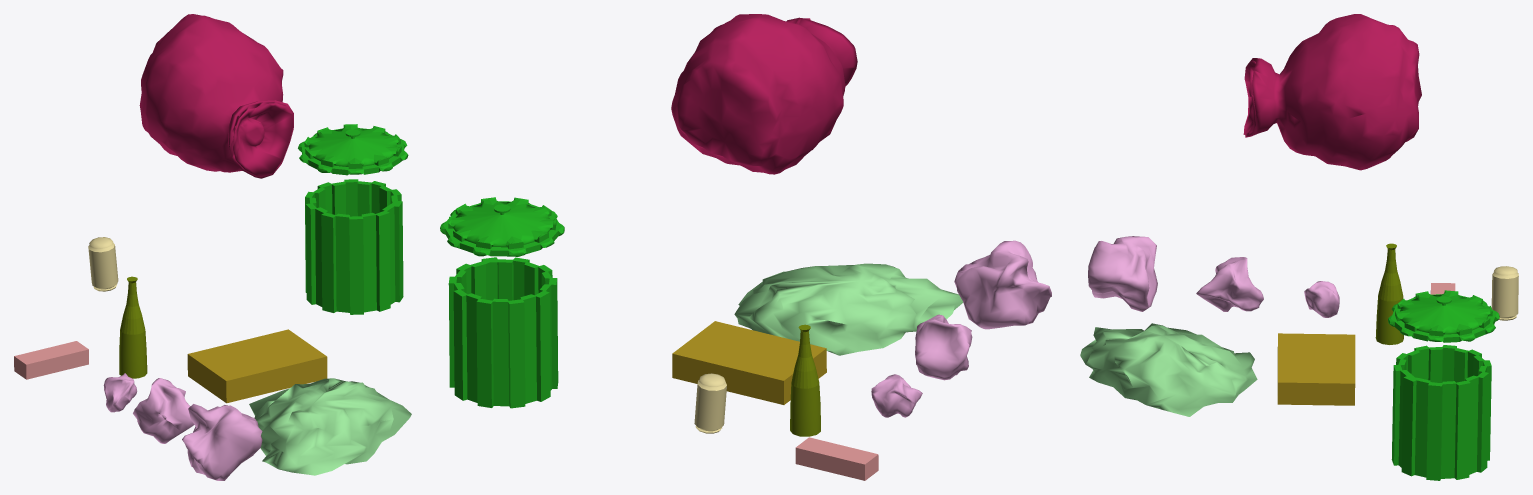
File: scattered_garbage.obj
The picture shows the model from 3 angles, left to right: view 1: azimuth 30°, elevation 25°; view 2: azimuth 150°, elevation 25°; view 3: azimuth 270°, elevation 25°; orthographic projection. The views are drawn at different scales.
Visible parts, largest first — view 1: Sphere001, Cylinder001, Sphere002, Box001, Sphere005, Cylinder004, Sphere004, Cylinder006, Box002, Cylinder005, Sphere003; view 2: Sphere001, Cylinder001, Sphere002, Box001, Sphere005, Cylinder004, Sphere004, Cylinder006, Box002, Cylinder005, Sphere003; view 3: Sphere001, Cylinder001, Sphere002, Box001, Cylinder004, Sphere005, Sphere004, Cylinder006, Cylinder005, Sphere003.
Boxes of the visible parts, x1,y1,x2,y2 form: Sphere001: [139, 14, 293, 178]; Cylinder001: [305, 179, 403, 314]; Sphere002: [249, 378, 411, 475]; Box001: [187, 329, 327, 403]; Sphere005: [182, 404, 262, 480]; Cylinder004: [298, 124, 408, 175]; Sphere004: [133, 378, 194, 443]; Cylinder006: [119, 276, 147, 378]; Box002: [14, 341, 88, 379]; Cylinder005: [88, 237, 118, 291]; Sphere003: [103, 373, 137, 412]; Sphere001: [671, 14, 857, 174]; Cylinder001: [448, 257, 558, 408]; Sphere002: [734, 263, 963, 355]; Box001: [672, 321, 826, 404]; Sphere005: [954, 240, 1051, 329]; Cylinder004: [440, 197, 564, 256]; Sphere004: [915, 314, 972, 380]; Cylinder006: [790, 324, 820, 436]; Box002: [795, 437, 878, 480]; Cylinder005: [694, 373, 726, 433]; Sphere003: [871, 374, 922, 417]; Sphere001: [1243, 14, 1421, 170]; Cylinder001: [1391, 345, 1491, 480]; Sphere002: [1080, 323, 1257, 416]; Box001: [1277, 333, 1355, 405]; Cylinder004: [1388, 290, 1499, 342]; Sphere005: [1088, 236, 1157, 311]; Sphere004: [1196, 257, 1263, 311]; Cylinder006: [1375, 243, 1403, 344]; Cylinder005: [1491, 266, 1518, 320]; Sphere003: [1304, 281, 1339, 317].
Size of the model in its own units: 71.23 by 62.55 by 71.01.
